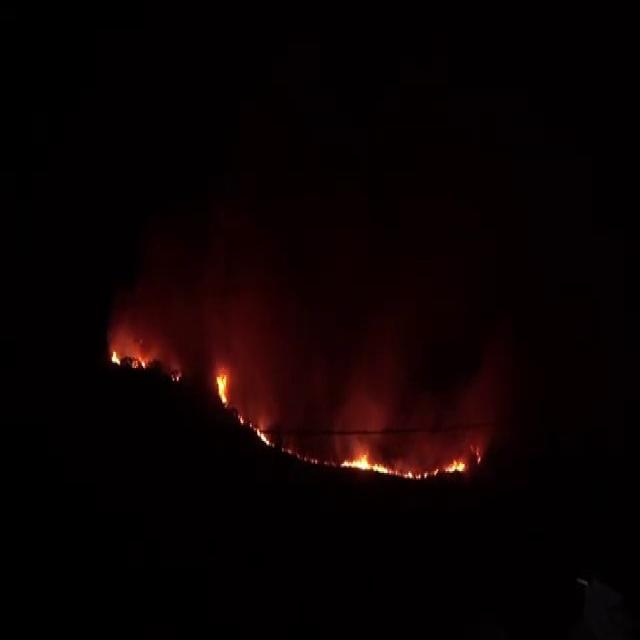Fire: (342, 451, 392, 473), (442, 456, 466, 478), (216, 368, 229, 406), (109, 348, 119, 366)
